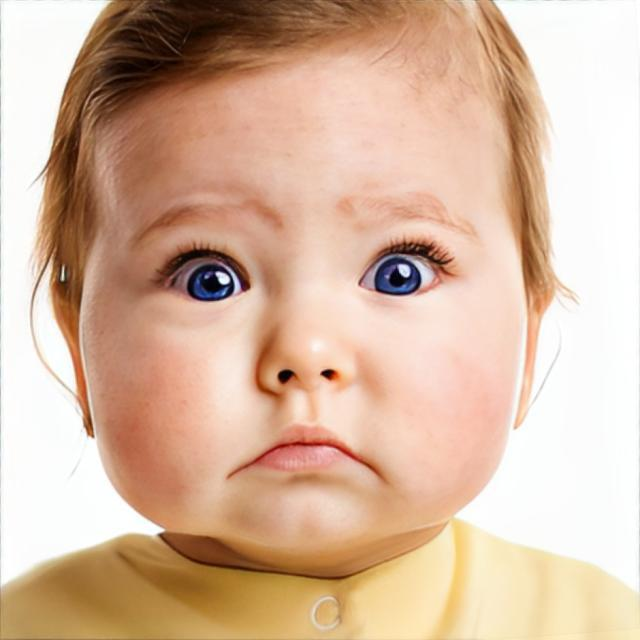fear: (80, 0, 530, 557)
